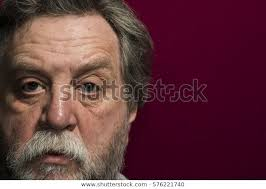white_male: (4, 45, 134, 171)
